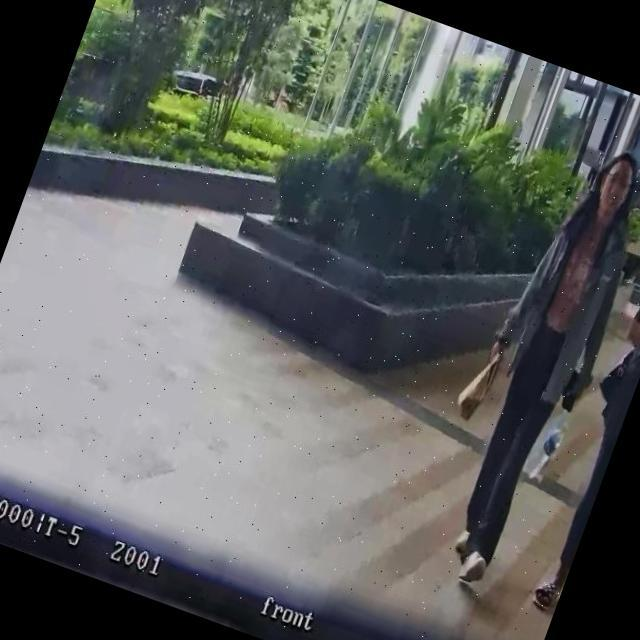person: (413, 131, 640, 599), (525, 225, 640, 613)
